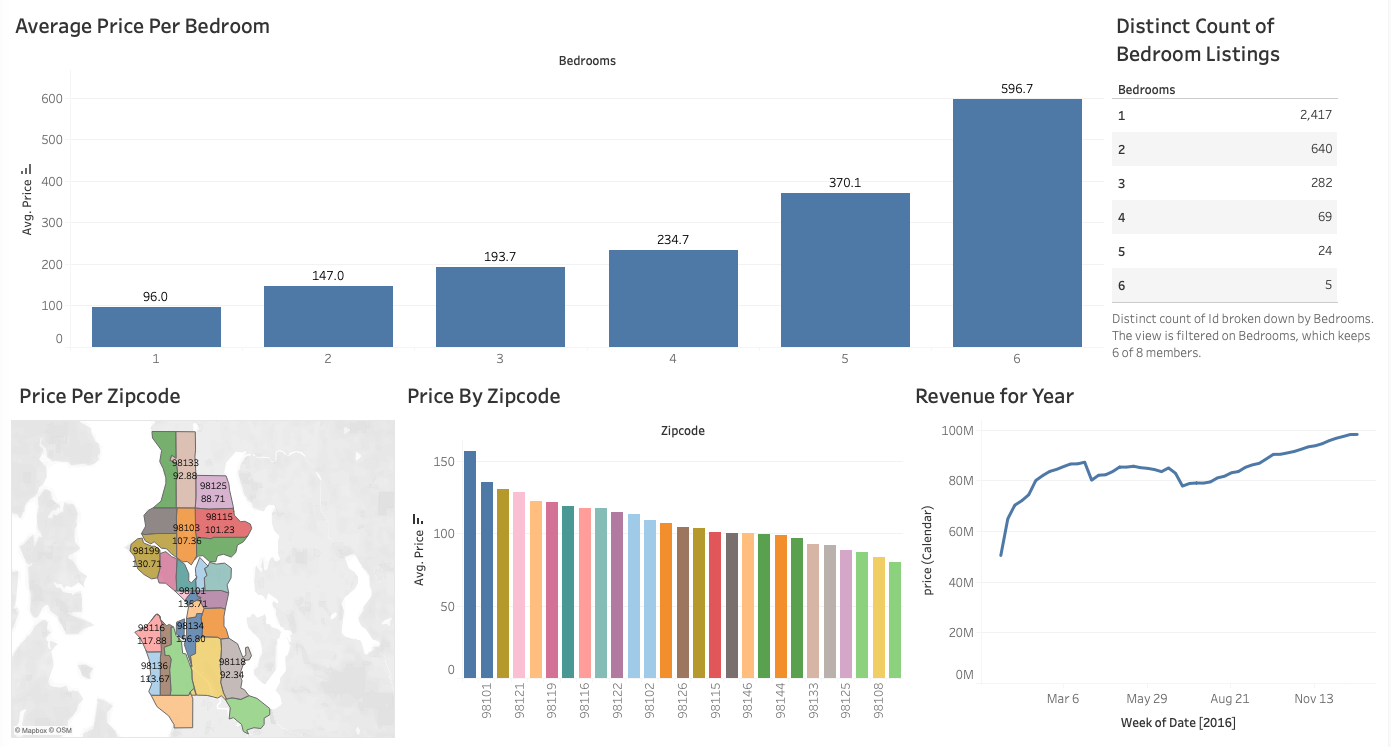

The page's visual inventory and layout, read from the dashboard file:
{"tool":"tableau","page":{"name":"Dashboard 1","canvas":[1000,1000],"units":"permille","ordinal":0},"visuals":[{"type":"worksheet","title":"Sheet 4","mark":"Automatic","rows":["price"],"cols":["bedrooms"],"box":[6.6,10.6,791.5,489.4]},{"type":"worksheet","title":"Sheet 5","mark":"Automatic","rows":["bedrooms"],"box":[798.2,10.6,195.2,489.4]},{"type":"worksheet","title":"Sheet 2","mark":"Multipolygon","box":[6.6,500,281.6,489.4]},{"type":"worksheet","title":"Sheet 1","mark":"Automatic","rows":["price"],"cols":["zipcode"],"box":[288.2,500,365.4,489.4]},{"type":"worksheet","title":"Sheet 3","mark":"Automatic","rows":["price (Calendar)"],"cols":["date"],"box":[653.6,500,339.7,489.4]}]}

Visuals, with their boxes on the dashboard's canvas, which has no fixed pixel size, in thousandths of its width and height (x1, y1, x2, y2). These are canvas units, not pixel positions in the 1391x747 screenshot, which may show the page scaled, cropped or inside an application window:
"Sheet 4" worksheet: [7, 11, 798, 500]
"Sheet 5" worksheet: [798, 11, 993, 500]
"Sheet 2" worksheet (Multipolygon marks): [7, 500, 288, 989]
"Sheet 1" worksheet: [288, 500, 654, 989]
"Sheet 3" worksheet: [654, 500, 993, 989]
